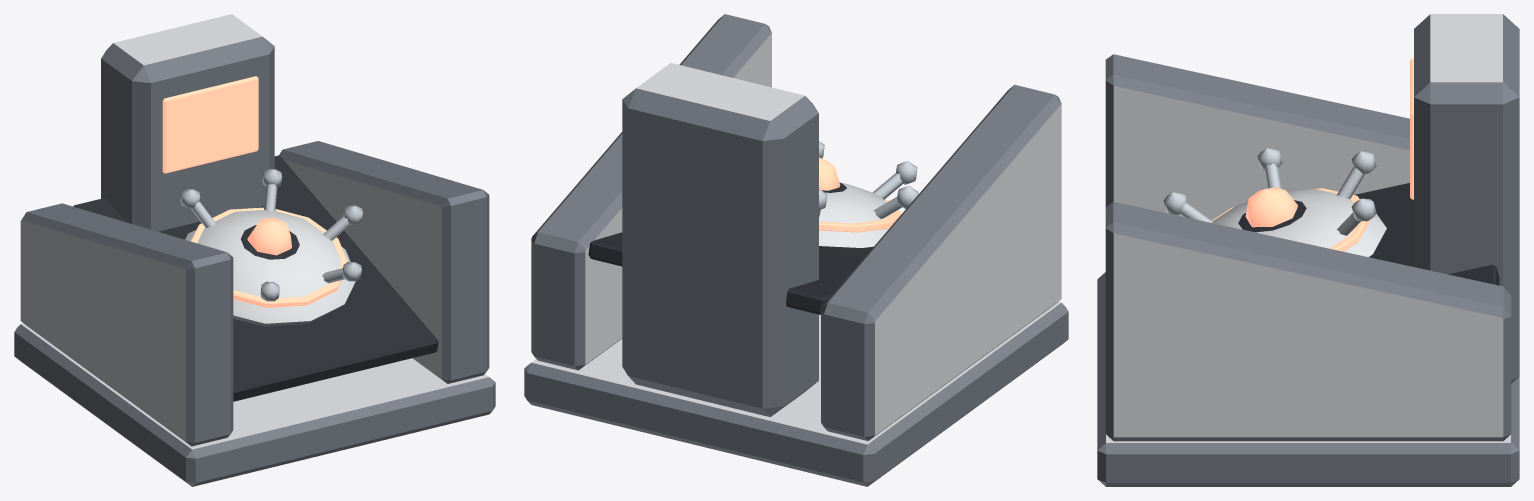
Rendered from R4X_ExplosiveTrapDeployer_LOD1.fbx.
The picture shows the model from 3 angles, left to right: view 1: azimuth 30°, elevation 25°; view 2: azimuth 150°, elevation 25°; view 3: azimuth 270°, elevation 25°; orthographic projection. The views are drawn at different scales.
Visible parts, largest first — view 1: R4X_ExplosiveTrapDeployer_LOD1; view 2: R4X_ExplosiveTrapDeployer_LOD1; view 3: R4X_ExplosiveTrapDeployer_LOD1.
Boxes of the visible parts, x1,y1,x2,y2 form: R4X_ExplosiveTrapDeployer_LOD1: (14, 14, 495, 486); R4X_ExplosiveTrapDeployer_LOD1: (524, 14, 1068, 486); R4X_ExplosiveTrapDeployer_LOD1: (1097, 14, 1519, 486).
Bounding box in the file's own units: 0.52 × 0.48 × 0.52.
